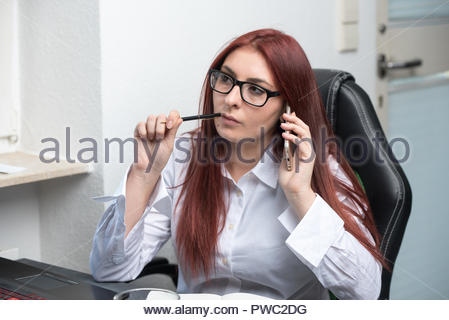phone: (272, 97, 319, 176)
talk: (210, 62, 329, 198)
